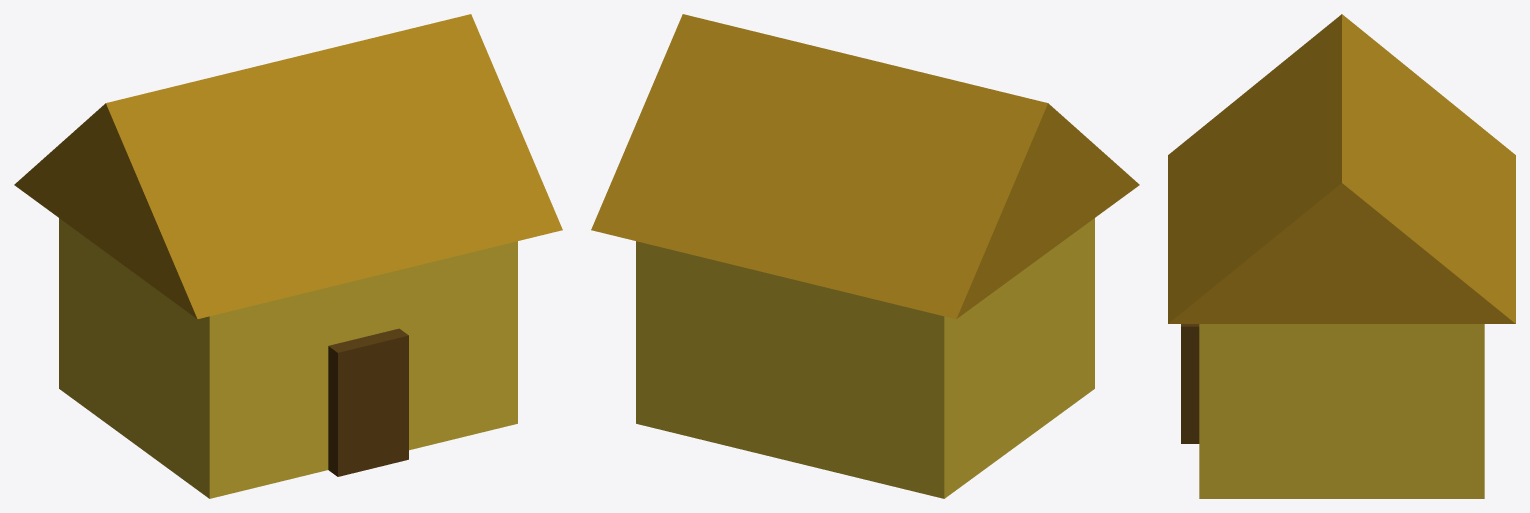
File: mark_small.glb
The picture shows the model from 3 angles, left to right: view 1: azimuth 30°, elevation 25°; view 2: azimuth 150°, elevation 25°; view 3: azimuth 270°, elevation 25°; orthographic projection. The views are drawn at different scales.
Parts seen in each view (by area): view 1: mark_small; view 2: mark_small; view 3: mark_small.
Part boxes in pixels (x1=…): mark_small: x1=14, y1=14, x2=562, y2=498; mark_small: x1=591, y1=14, x2=1139, y2=498; mark_small: x1=1168, y1=14, x2=1515, y2=498.
Size of the model in its own units: 0.154 by 0.14 by 0.134.
